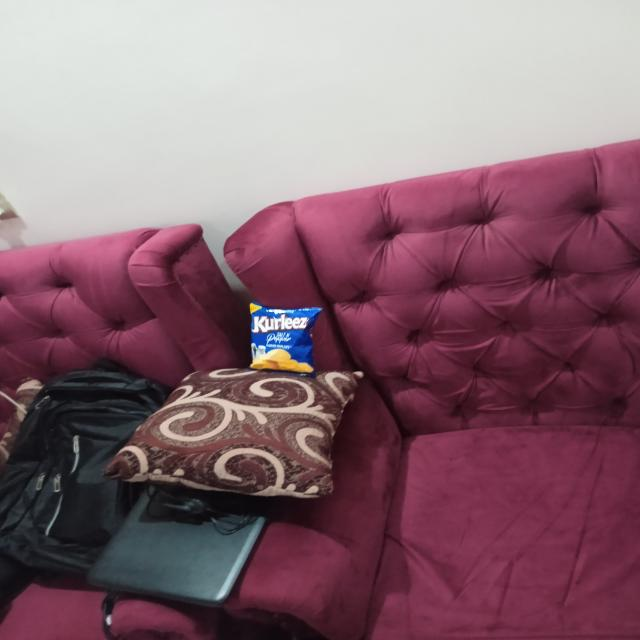Plastic: (252, 303, 324, 374)
